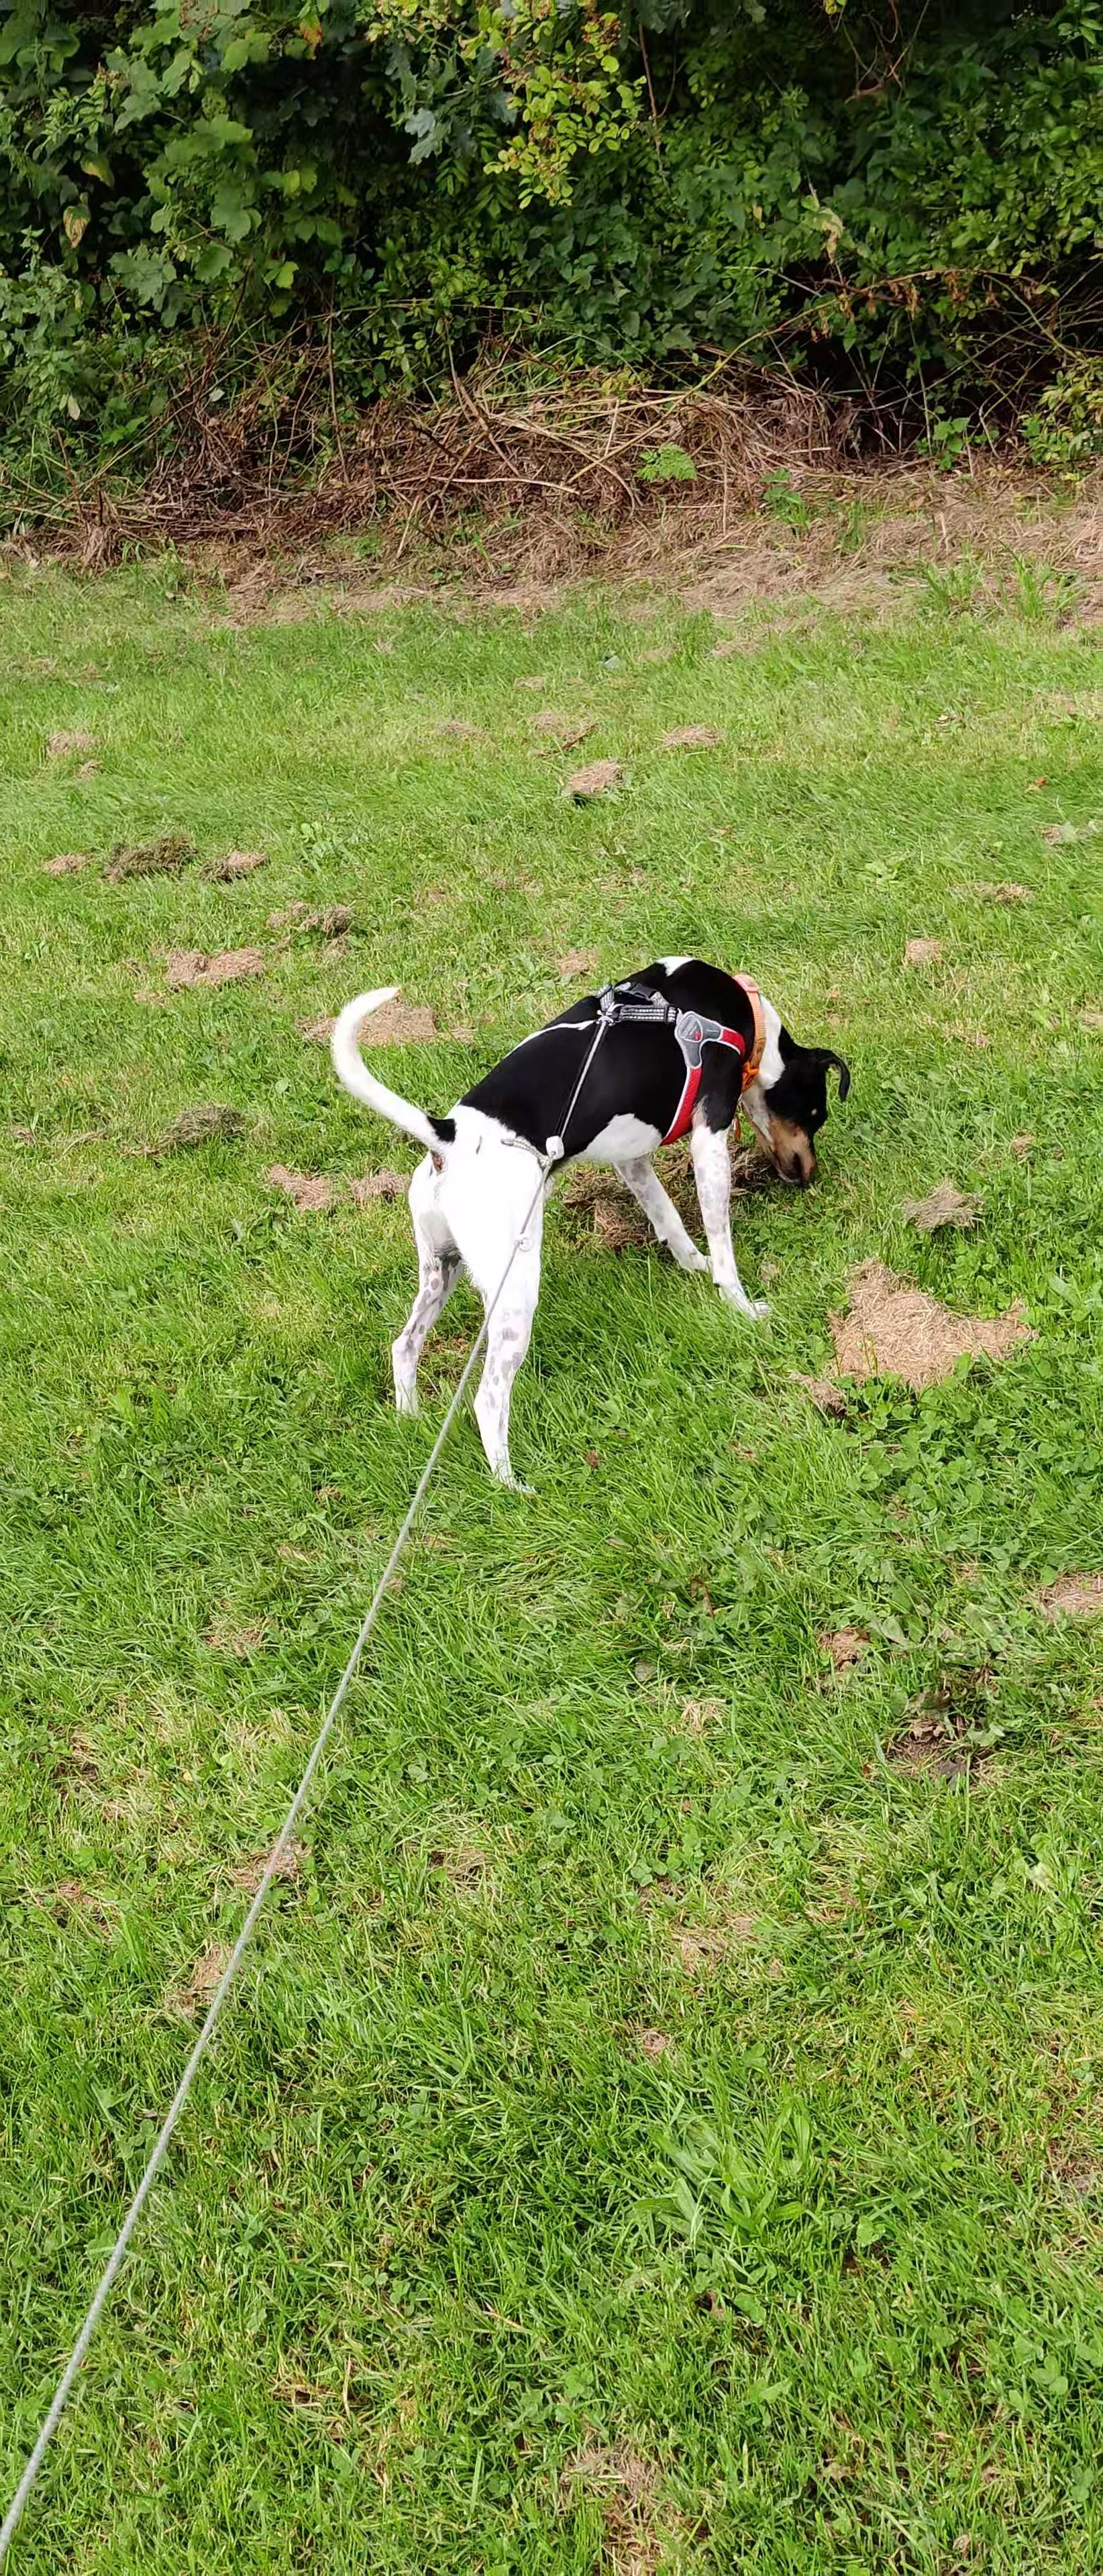Dog: (317, 918, 860, 1503)
